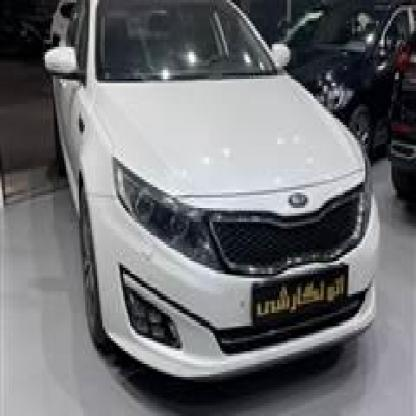Car: (38, 3, 381, 382), (270, 0, 416, 150), (386, 28, 416, 197)
